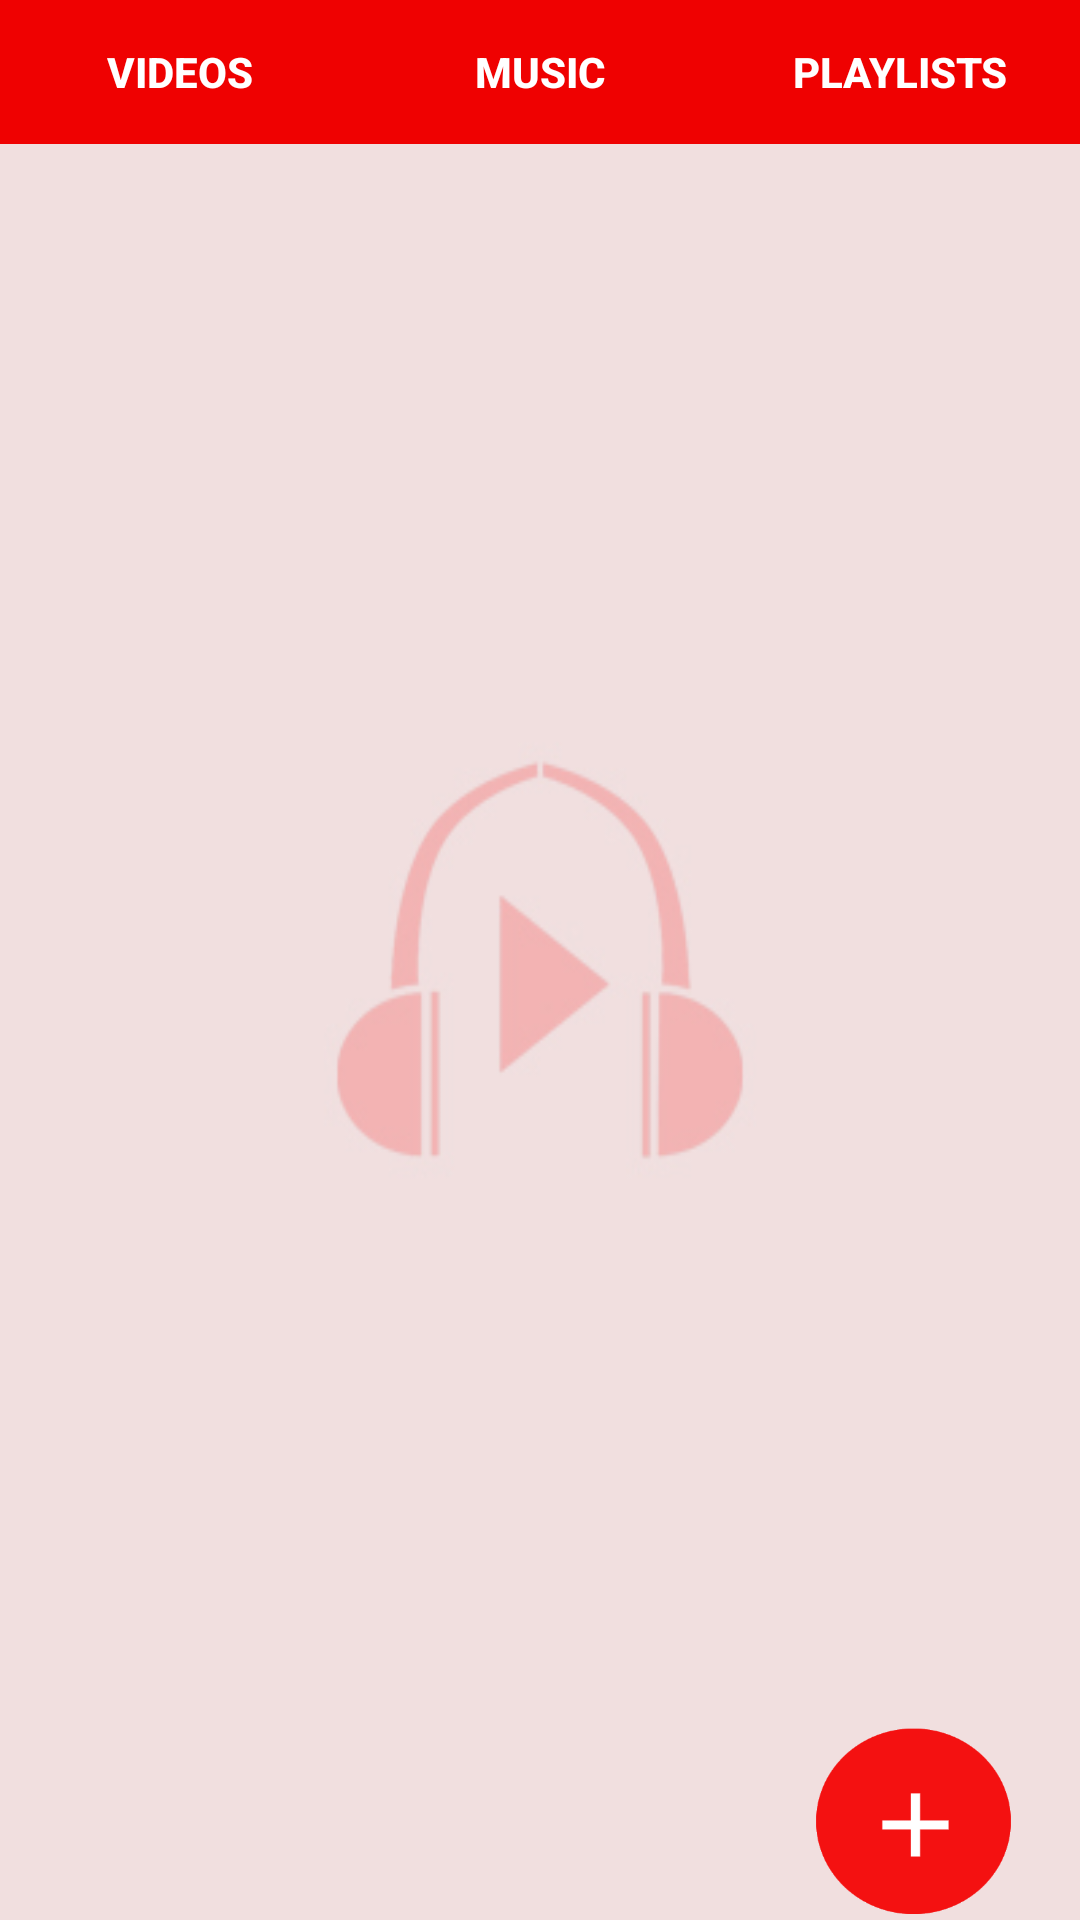

Icons on this 1080px x 1920px Android screen, each with its box as (x1,y1,x2,y2):
plus: (816,1728,1011,1914)
